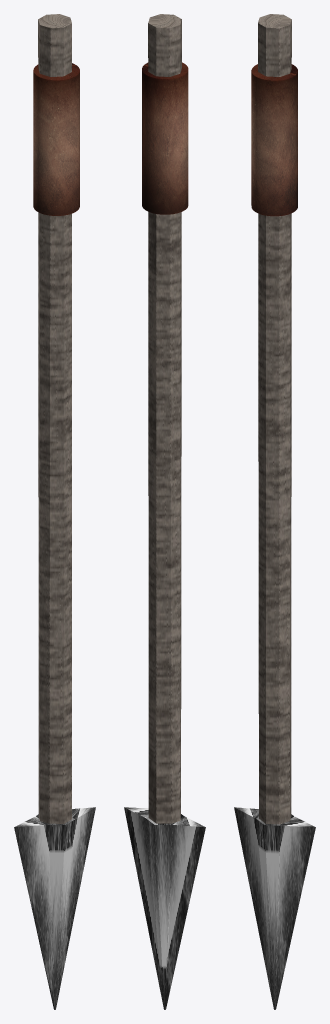
Rendered from lancet ready for game.FBX.
The picture shows the model from 3 angles, left to right: view 1: azimuth 30°, elevation 25°; view 2: azimuth 150°, elevation 25°; view 3: azimuth 330°, elevation 25°; orthographic projection.
Visible parts, largest first — view 1: NGon002, Group001, Circle002; view 2: NGon002, Group001, Circle002; view 3: NGon002, Group001, Circle002.
Part boxes in pixels (<box>): NGon002: <box>38,14,71,823</box>; Group001: <box>14,807,95,1009</box>; Circle002: <box>33,63,79,215</box>; NGon002: <box>148,14,181,823</box>; Group001: <box>124,807,205,1009</box>; Circle002: <box>142,62,188,214</box>; NGon002: <box>258,14,291,824</box>; Group001: <box>234,807,315,1009</box>; Circle002: <box>251,64,297,216</box>.
Size of the model in its own units: 9.1 by 105 by 4.49.
3 materials, 3 textured.
